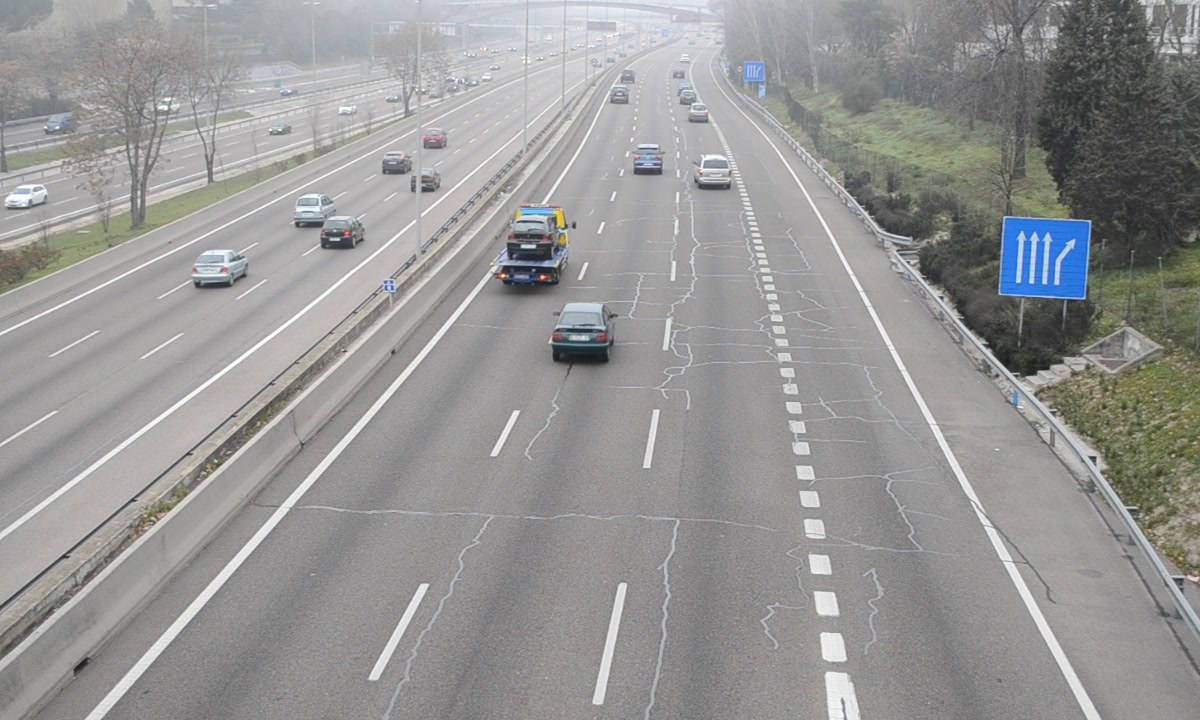car: (550, 304, 614, 356), (693, 154, 732, 187), (629, 143, 665, 174), (687, 101, 710, 124)
small-truck: (493, 205, 569, 289)
